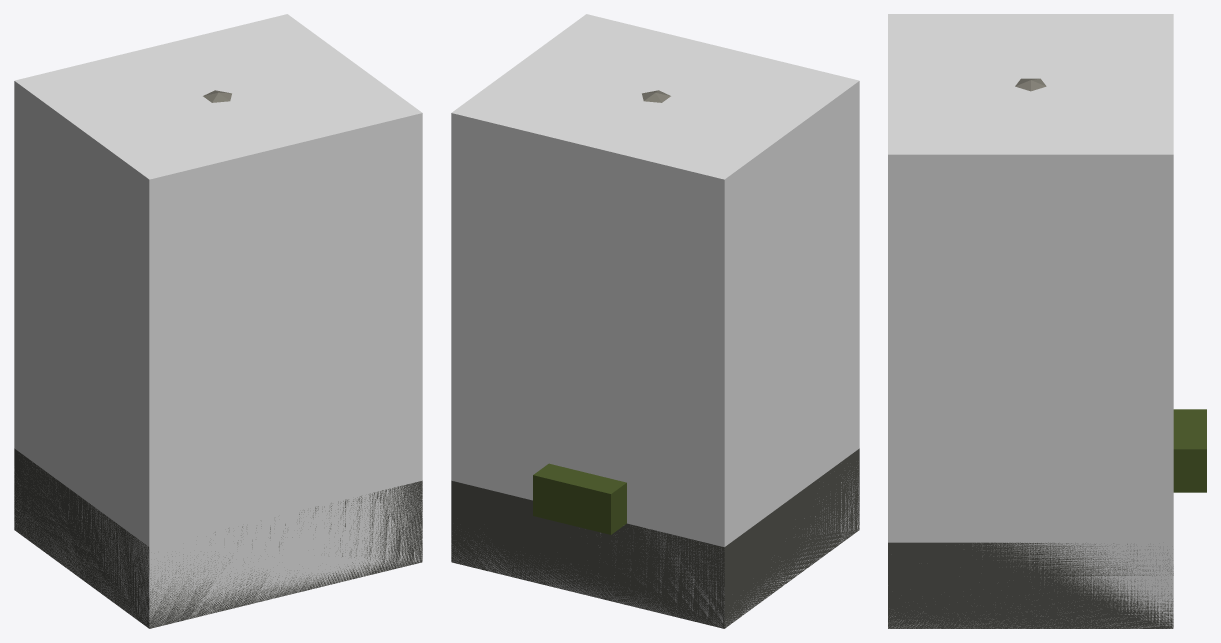
File: Jizo.fbx
The picture shows the model from 3 angles, left to right: view 1: azimuth 30°, elevation 25°; view 2: azimuth 150°, elevation 25°; view 3: azimuth 270°, elevation 25°; orthographic projection. The views are drawn at different scales.
Parts seen in each view (by area): view 1: COL_Jizo_0, Jizo; view 2: COL_Jizo_0, Jizo; view 3: COL_Jizo_0, Jizo.
Boxes of the visible parts, box(x1,y1,x2,y2) form: COL_Jizo_0: box(14, 14, 422, 628); Jizo: box(14, 90, 422, 628); COL_Jizo_0: box(451, 14, 859, 627); Jizo: box(451, 90, 859, 628); COL_Jizo_0: box(888, 14, 1173, 628); Jizo: box(888, 78, 1206, 628).
Bounding box in the file's own units: 0.7 × 1.11 × 0.67.
